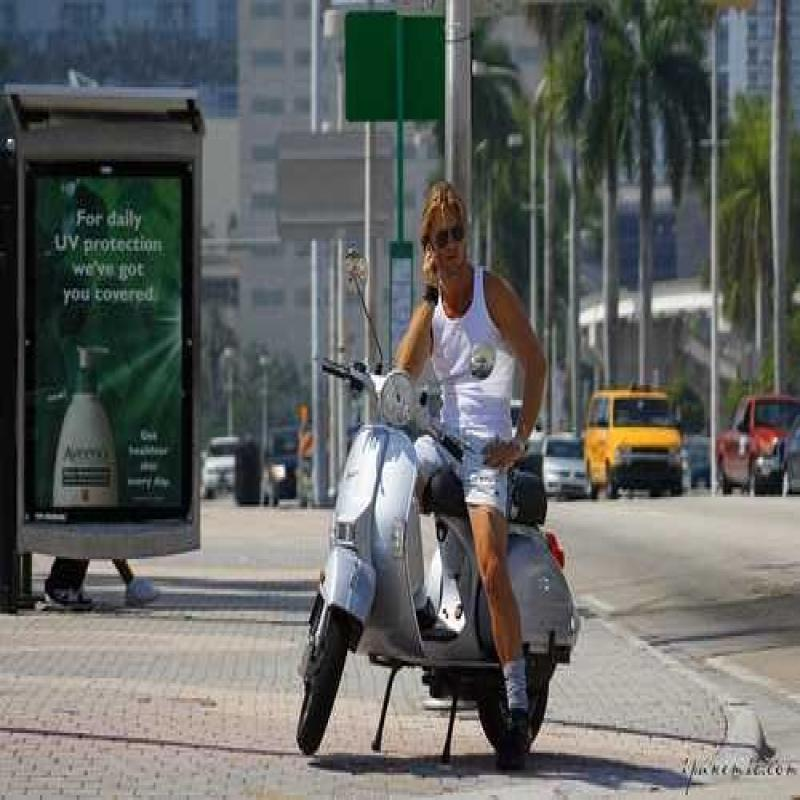bike: (291, 302, 439, 749)
